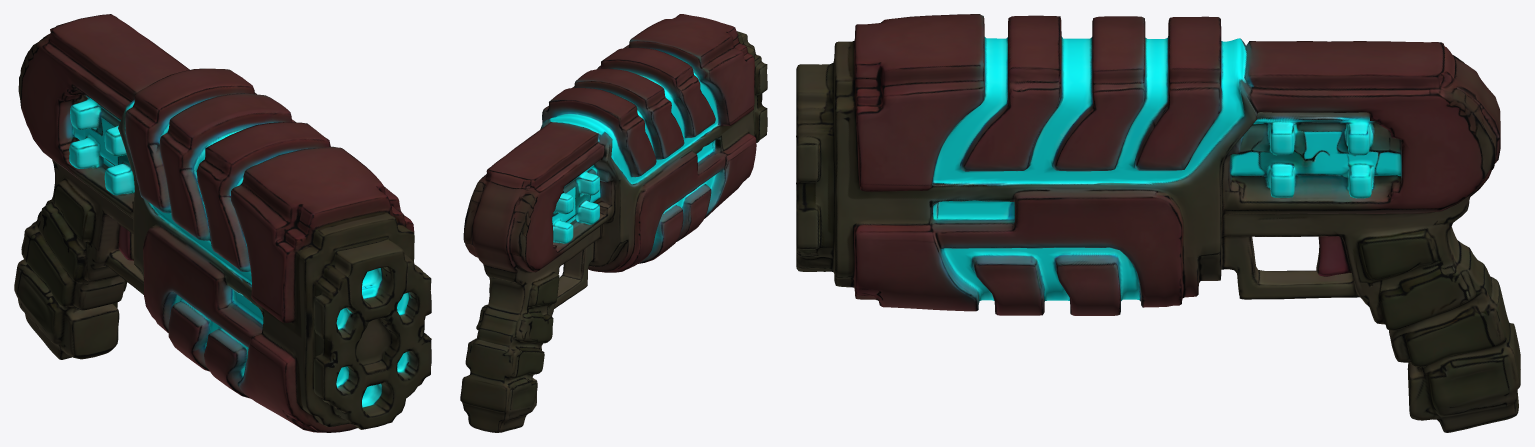
The model's file is base_basic_pbr.fbx.
3 renders of one model, left to right at view 1: azimuth 30°, elevation 25°; view 2: azimuth 150°, elevation 25°; view 3: azimuth 270°, elevation 25°, orthographic. The views are drawn at different scales.
Visible parts, largest first — view 1: model; view 2: model; view 3: model.
Boxes of the visible parts, x1,y1,x2,y2 form: model: [14, 14, 431, 432]; model: [460, 14, 767, 432]; model: [796, 14, 1520, 432].
Size of the model in its own units: 43.79 by 113 by 190.
Materials: 1 (1 with a texture image).
